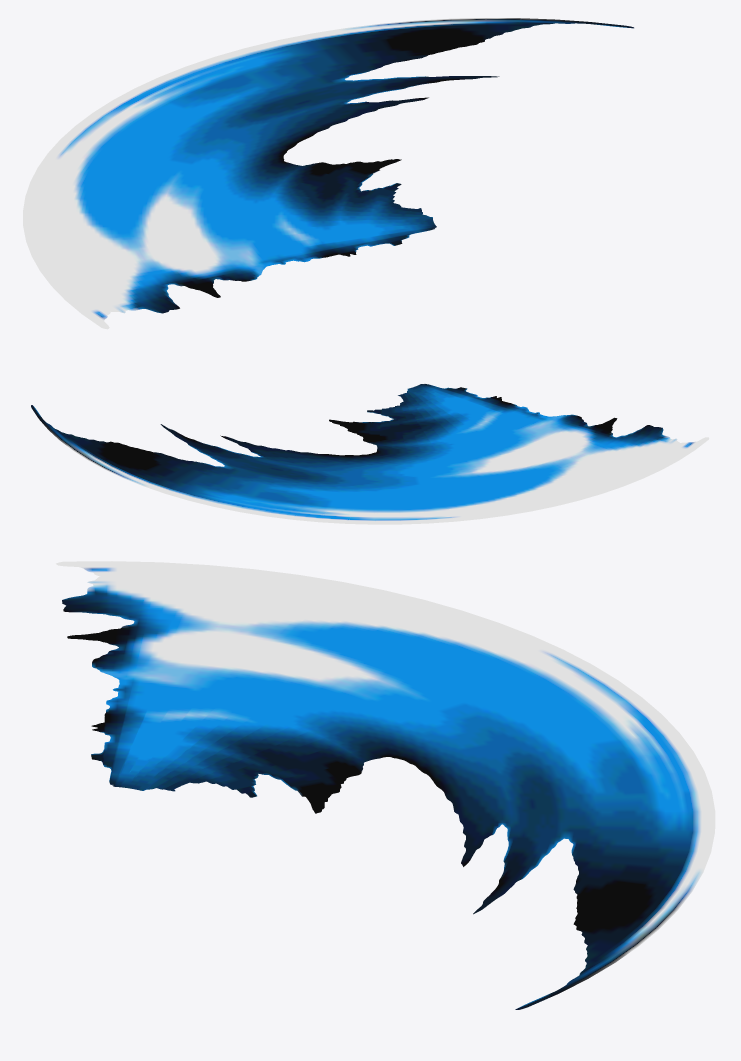
File: Fbx_Dg_fsw_010.FBX
3 views of the same model, one above another, from view 1: azimuth 30°, elevation 25°; view 2: azimuth 150°, elevation 25°; view 3: azimuth 270°, elevation 25° (orthographic). The views are drawn at different scales.
Visible parts, largest first — view 1: Fbx_Dg_fsw_010; view 2: Fbx_Dg_fsw_010; view 3: Fbx_Dg_fsw_010.
Boxes of the visible parts, x1=… form: Fbx_Dg_fsw_010: x1=23, y1=18, x2=633, y2=329; Fbx_Dg_fsw_010: x1=31, y1=384, x2=709, y2=524; Fbx_Dg_fsw_010: x1=56, y1=561, x2=715, y2=1009.
Bounding box in the file's own units: 15213 × 1.38e-10 × 9346.
